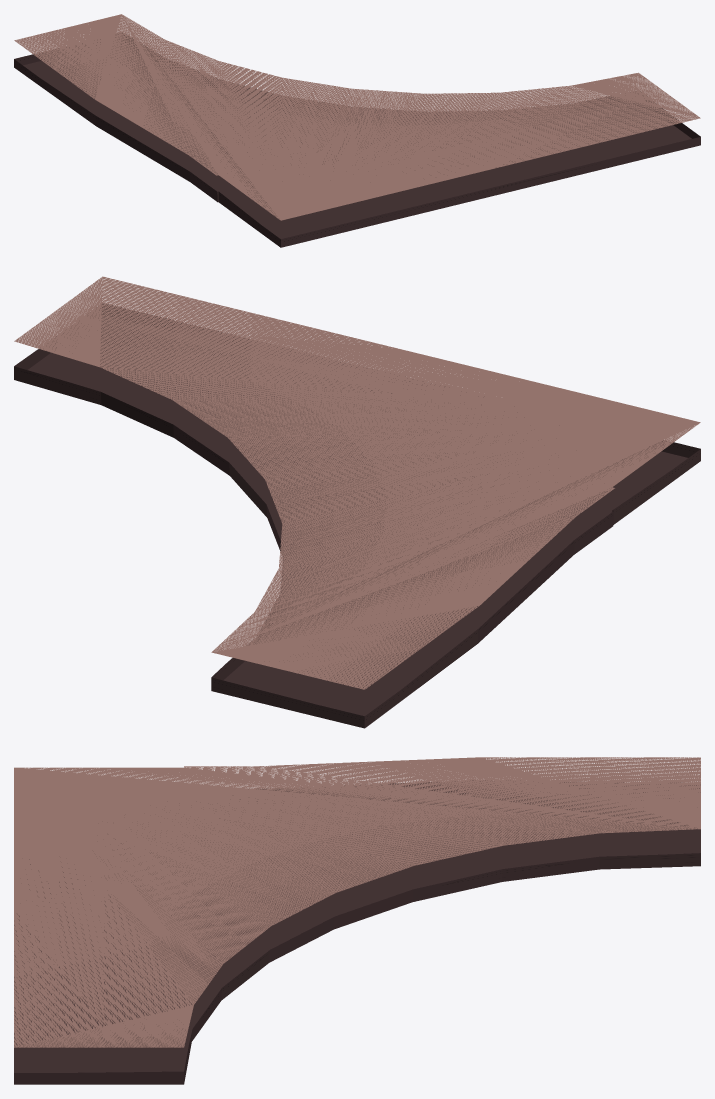
Rendered from SW_ENV_EL_TrackBase_Junction_90Deg_Collision.fbx.
The picture shows the model from 3 angles, top to bottom: view 1: azimuth 30°, elevation 25°; view 2: azimuth 150°, elevation 25°; view 3: azimuth 270°, elevation 25°; orthographic projection. The views are drawn at different scales.
Visible parts, largest first — view 1: SW_ENV_EL_TrackBase_Junction_90Deg_Collision; view 2: SW_ENV_EL_TrackBase_Junction_90Deg_Collision; view 3: SW_ENV_EL_TrackBase_Junction_90Deg_Collision.
Part boxes in pixels (box(x1,y1,x2,y2)): SW_ENV_EL_TrackBase_Junction_90Deg_Collision: box(14, 14, 700, 247); SW_ENV_EL_TrackBase_Junction_90Deg_Collision: box(14, 276, 700, 728); SW_ENV_EL_TrackBase_Junction_90Deg_Collision: box(14, 757, 700, 1084).
Bounding box in the file's own units: 3110 × 185 × 3110.
